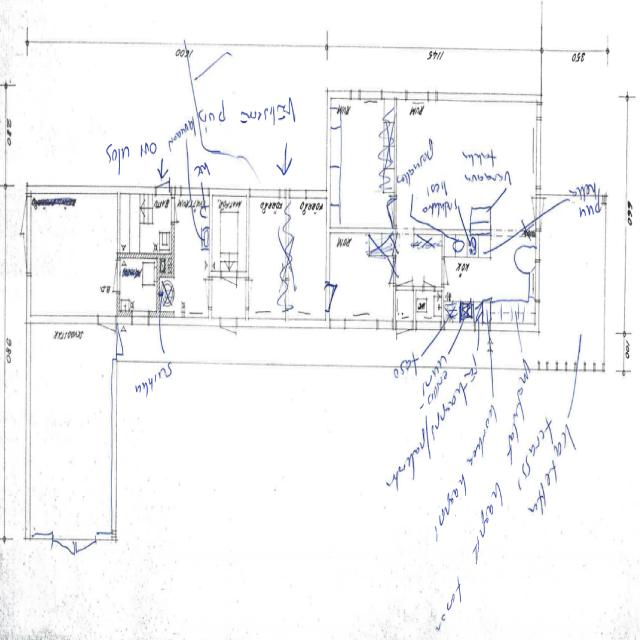door: (74, 532, 96, 582), (52, 532, 74, 582), (7, 234, 30, 272), (7, 197, 30, 234), (220, 321, 236, 360), (113, 332, 133, 363), (519, 197, 539, 227), (535, 197, 555, 227), (397, 321, 412, 360), (397, 255, 412, 291), (378, 195, 396, 225), (102, 262, 120, 291), (246, 280, 264, 308), (156, 160, 170, 194), (222, 272, 236, 306), (326, 285, 344, 311), (98, 321, 111, 357), (195, 283, 212, 310), (171, 197, 187, 221), (442, 260, 457, 284), (424, 266, 434, 291)
